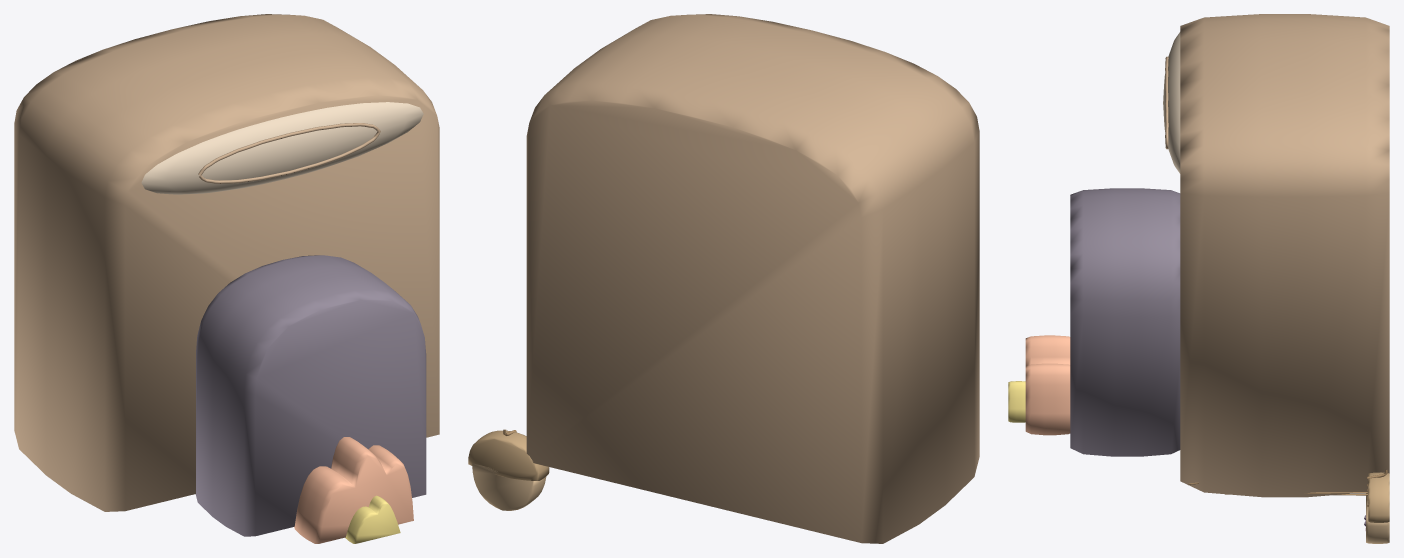
Rendered from decor_6_classic.glb.
3 views of the same model, side by side, from view 1: azimuth 30°, elevation 25°; view 2: azimuth 150°, elevation 25°; view 3: azimuth 270°, elevation 25° (orthographic). The views are drawn at different scales.
Visible parts, largest first — view 1: decor_6_classic; view 2: decor_6_classic; view 3: decor_6_classic.
Part boxes in pixels (bbox=[...]): decor_6_classic: bbox=[14, 14, 439, 543]; decor_6_classic: bbox=[468, 14, 979, 543]; decor_6_classic: bbox=[1008, 14, 1389, 543].
Size of the model in its own units: 16.98 by 18.15 by 15.6.
